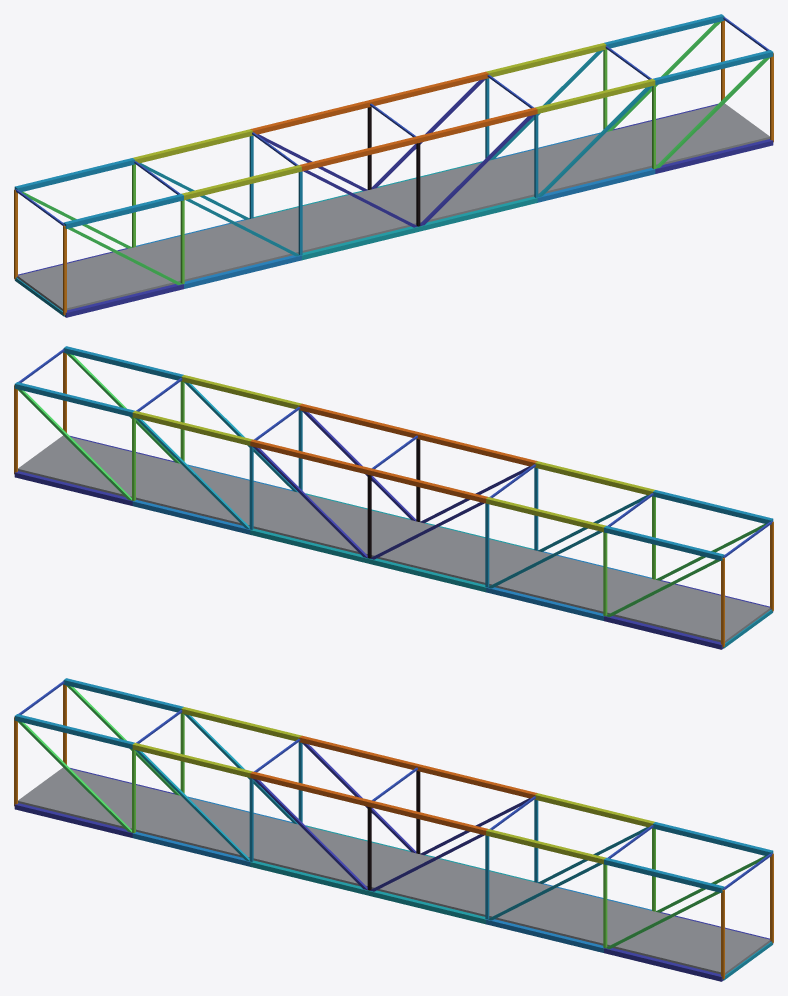
Rendered from 25_3_6_HEA160.glb.
The picture shows the model from 3 angles, top to bottom: view 1: azimuth 30°, elevation 25°; view 2: azimuth 150°, elevation 25°; view 3: azimuth 330°, elevation 25°; orthographic projection.
Bounding box in the file's own units: 25.09 × 3.16 × 3.16.
